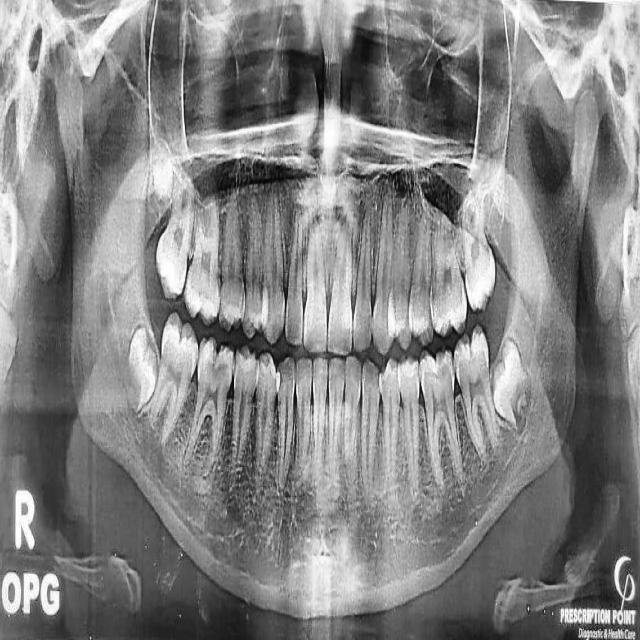karies: (207, 340, 232, 376)
